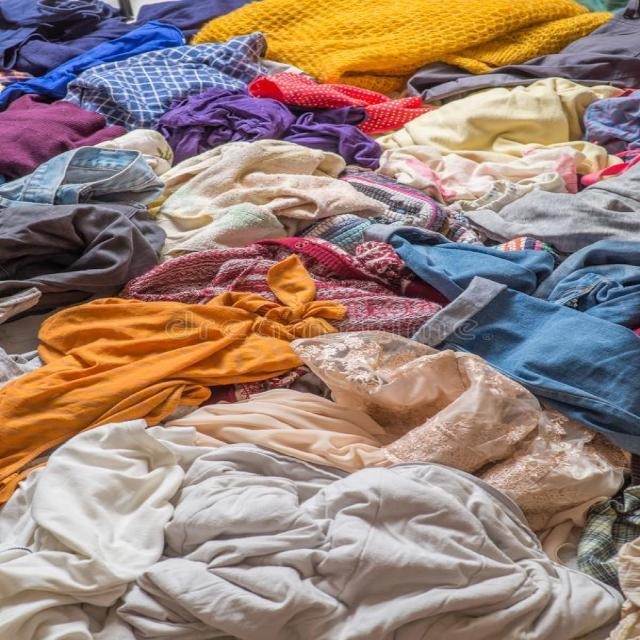clothes: (10, 2, 640, 640), (13, 426, 639, 640), (0, 270, 319, 513), (211, 343, 628, 509), (167, 0, 640, 105), (400, 236, 640, 432), (383, 74, 640, 234)
